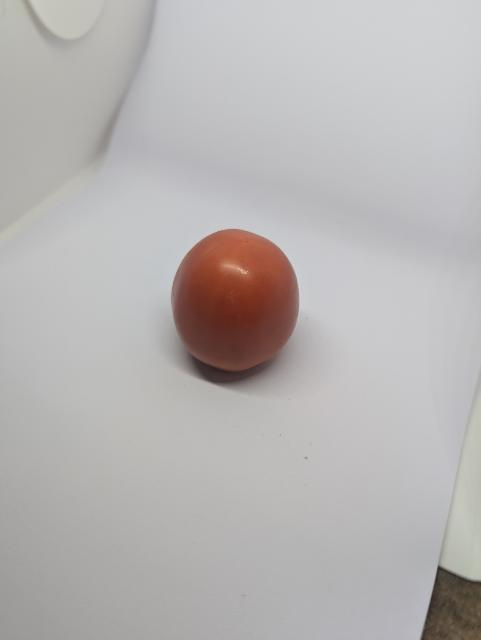red: (161, 221, 311, 379)
